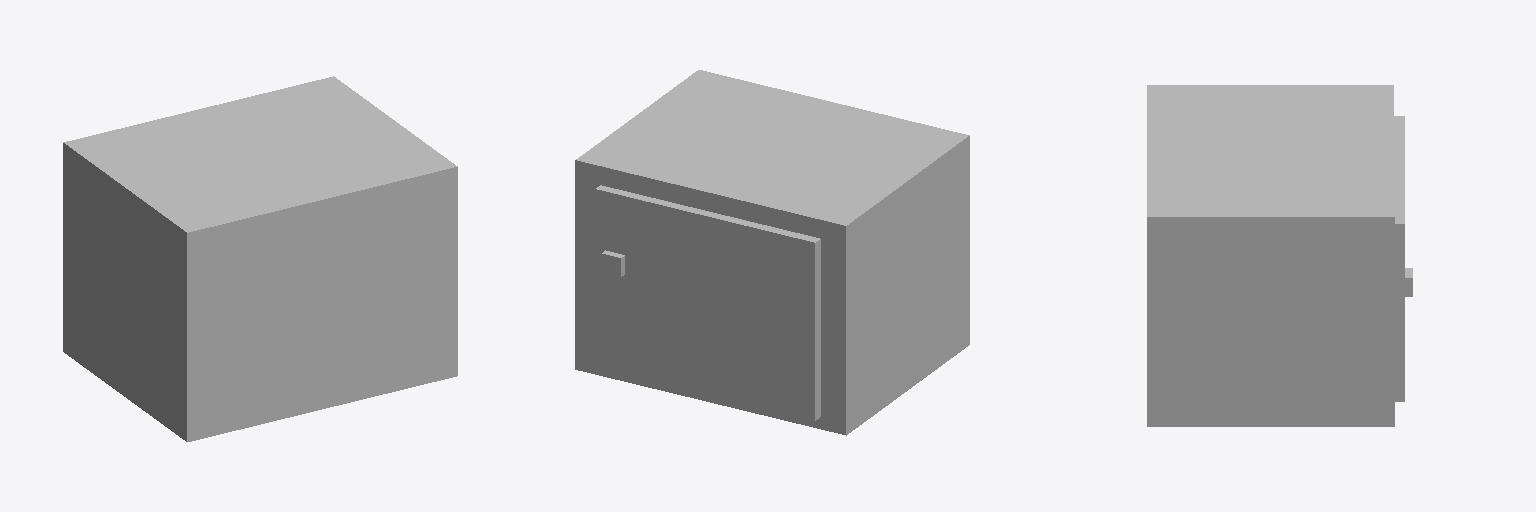
The model's file is FM_cabinet.obj.
3 renders of one model, left to right at view 1: azimuth 30°, elevation 25°; view 2: azimuth 150°, elevation 25°; view 3: azimuth 270°, elevation 25°, orthographic.
Visible parts, largest first — view 1: Cube.002; view 2: Cube.002; view 3: Cube.002.
Part boxes in pixels (x1,y1,x2,y2): Cube.002: (63,76,457,441); Cube.002: (575,70,969,435); Cube.002: (1147,85,1412,426).
Size of the model in its own units: 0.7873 by 0.5817 by 0.6697.